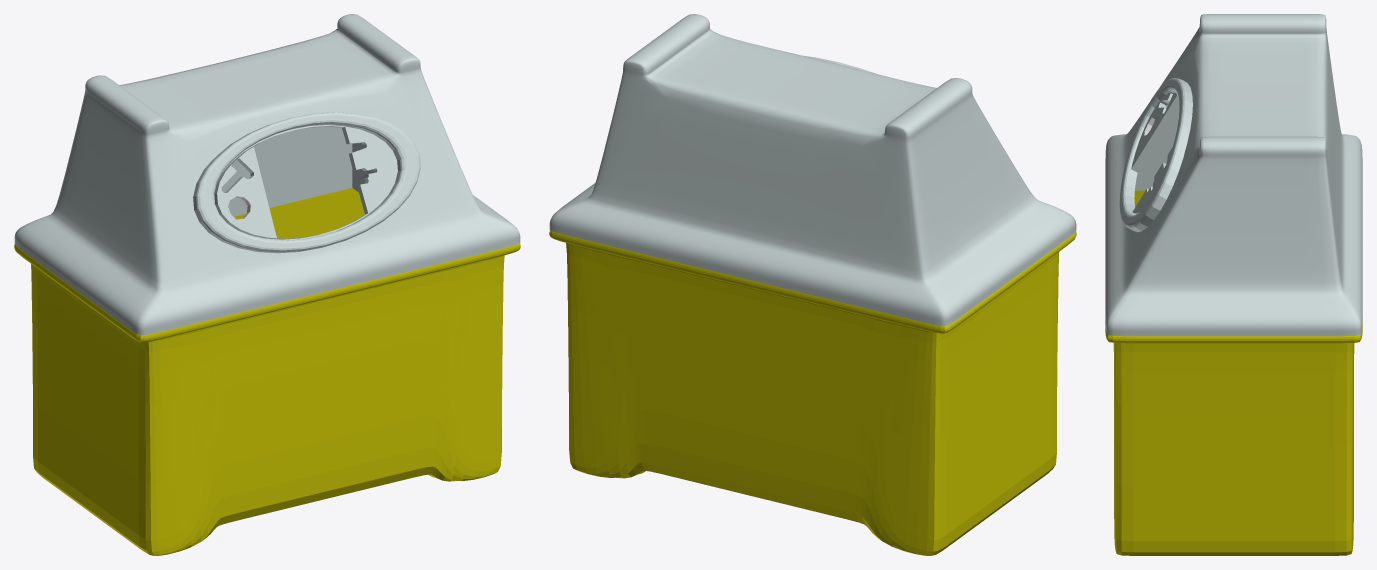
The model's file is Naaldcontainer.fbx.
3 renders of one model, left to right at view 1: azimuth 30°, elevation 25°; view 2: azimuth 150°, elevation 25°; view 3: azimuth 270°, elevation 25°, orthographic. The views are drawn at different scales.
Visible parts, largest first — view 1: Naaldcontainer; view 2: Naaldcontainer; view 3: Naaldcontainer.
Part boxes in pixels (bbox=[...]): Naaldcontainer: bbox=[14, 14, 520, 555]; Naaldcontainer: bbox=[549, 14, 1076, 555]; Naaldcontainer: bbox=[1105, 14, 1362, 555].
Bounding box in the file's own units: 0.1695 × 0.1666 × 0.0984.
